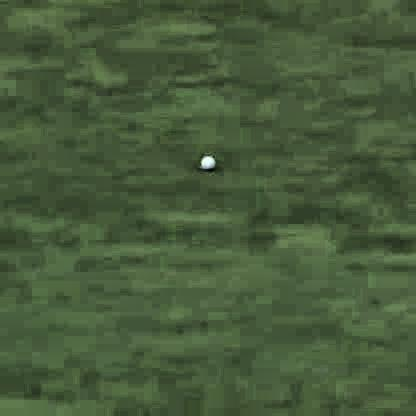golfball: (199, 150, 215, 168)
